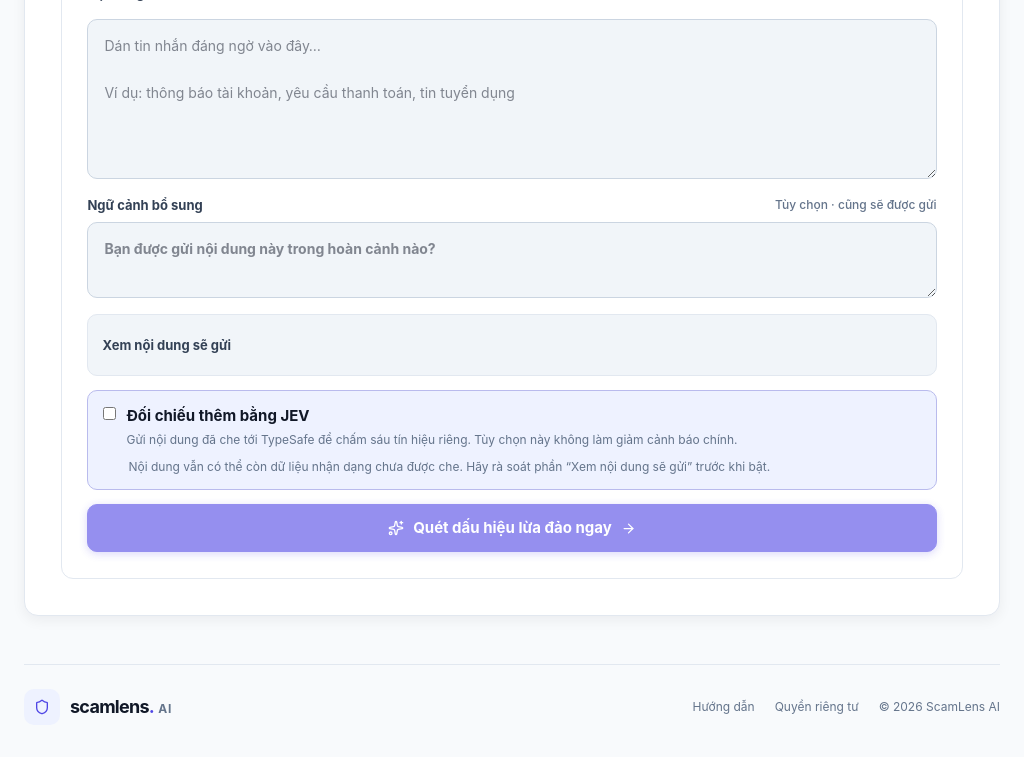
Test: lets a user opt into JEV and renders its supplementary result in the web report
This screenshot has width=1024, height=757.
(page scrolled)
Click the checkbox labelled "Đối chiếu thêm bằng JEV".
click(110, 414)  # box [103,407,116,420]
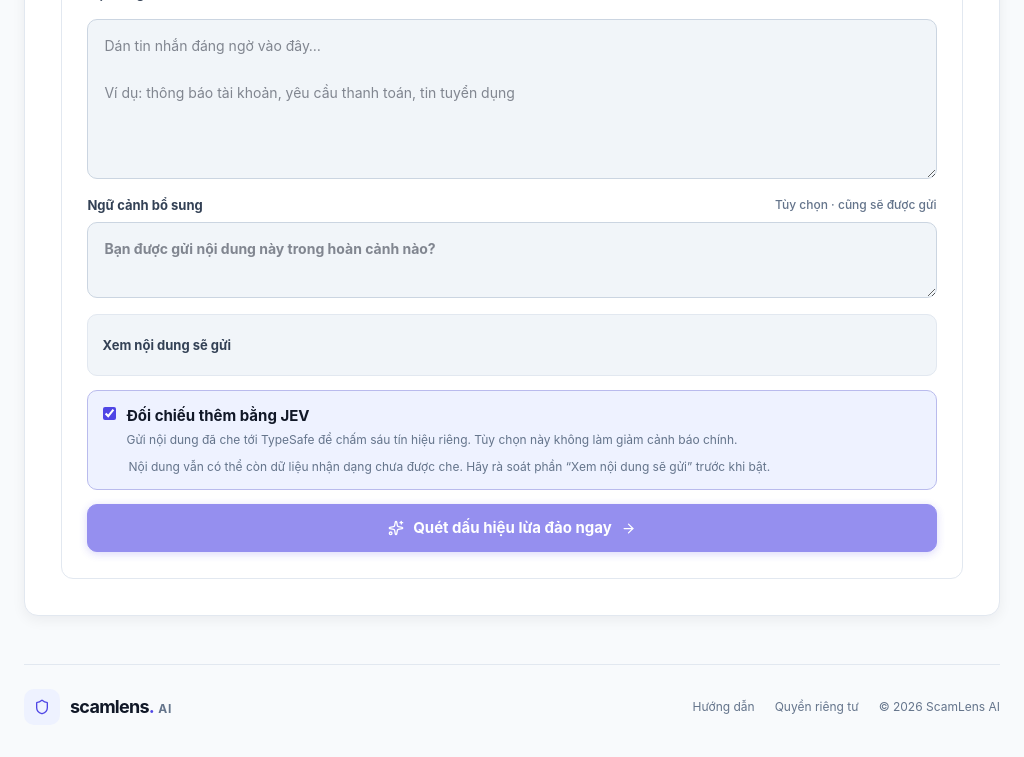
Replace the text in the text box labelled "Nội dung tin nhắn 0 / 20.000" with "Tài khoản bị khóa. Gửi OTP ngay." at (512, 99), box [87,19,937,179]
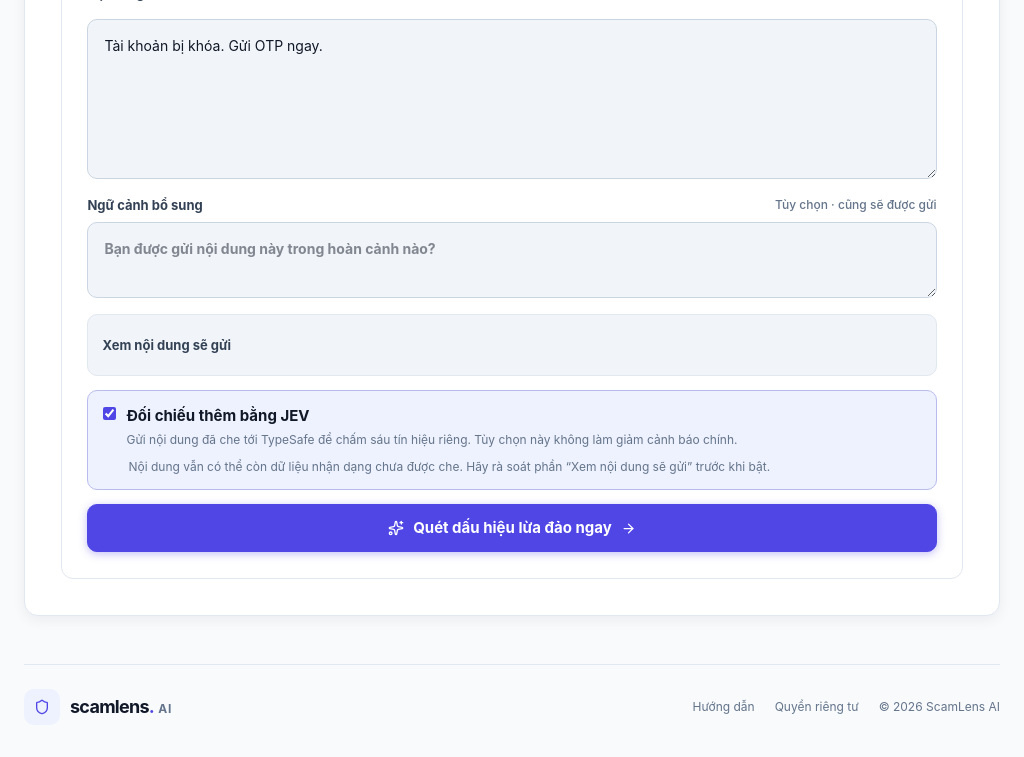
Click the button "Quét dấu hiệu lừa đảo ngay".
click(512, 528)  # box [87,504,937,552]
(page scrolled)
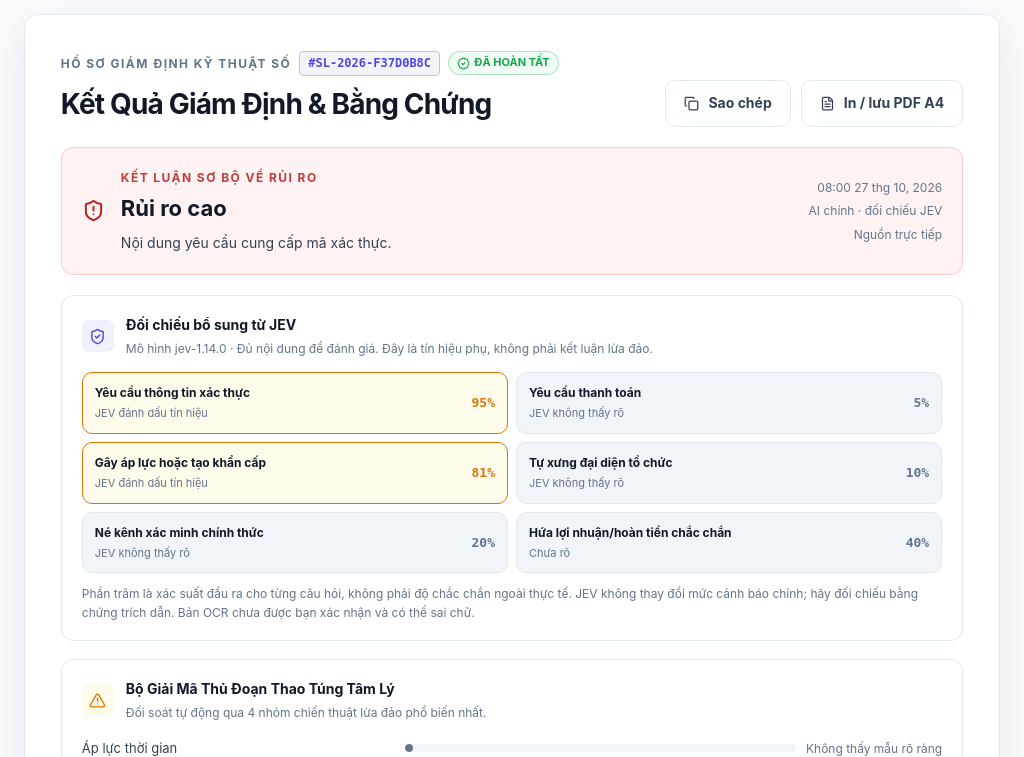
Check: the heading "Đối chiếu bổ sung từ JEV" is shown, box [126,316,296,333]
Check: the text "Bản OCR chưa được bạn xác nhận" is shown, box [174,605,475,620]
